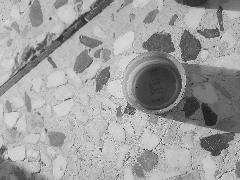plastic: (122, 50, 186, 114)
